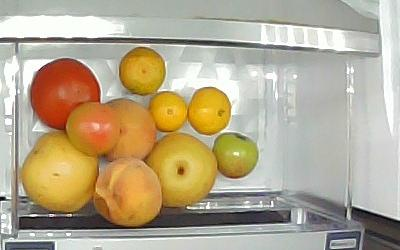peach: (93, 157, 162, 225), (99, 100, 155, 160)
pear: (21, 131, 99, 213), (147, 133, 218, 208)
tangerine: (119, 47, 165, 96), (188, 87, 232, 135), (150, 92, 188, 133)
tomato: (30, 57, 101, 131), (66, 102, 121, 155), (213, 133, 262, 178)
